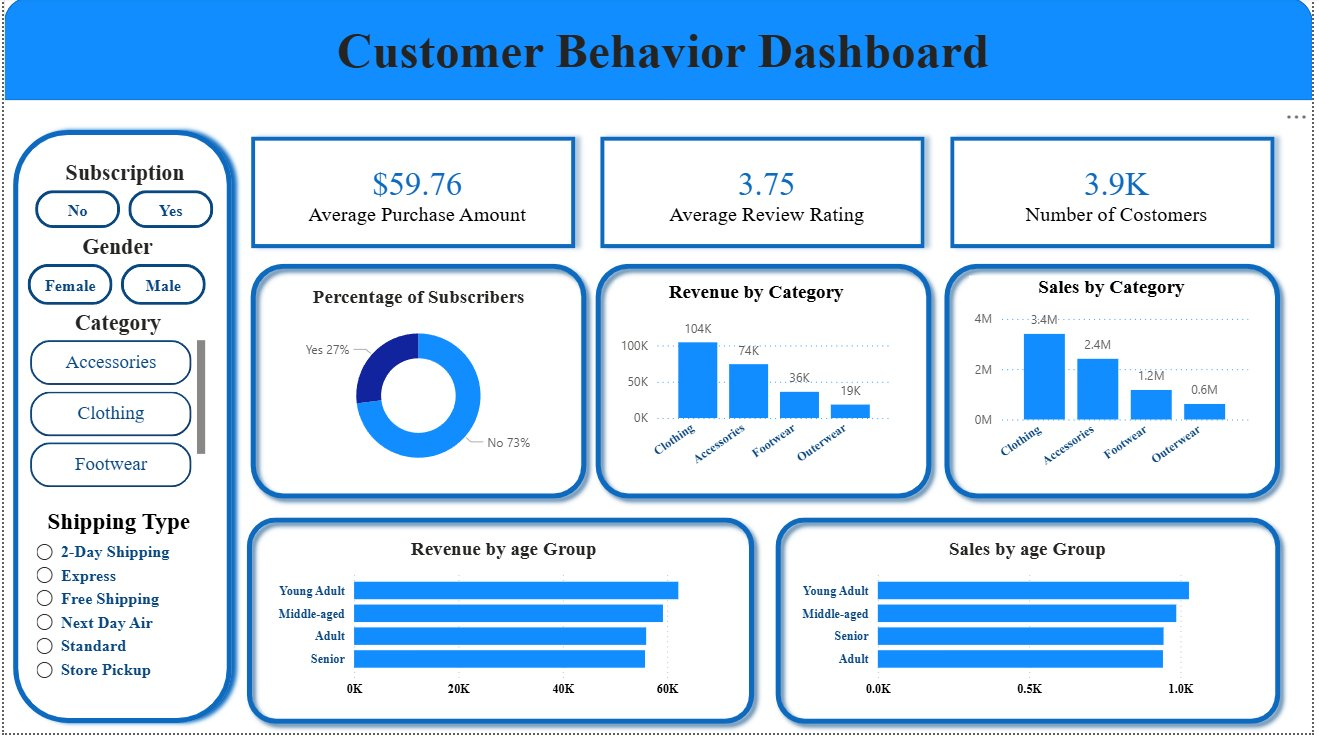

This screenshot's page, from the dashboard's own definition file:
{"tool":"powerbi","page":{"name":"Page 1","canvas":[1280,720],"ordinal":0},"visuals":[{"type":"cardVisual","fields":{"Data":["costomer_behavior customer.average_purchase_amount","costomer_behavior customer.average_review_rating","costomer_behavior customer.number_of_costomers"]},"box":[206.5,101.2,1073.8,179.9],"z":0},{"type":"shape","box":[0,0,1280.3,101.2],"z":1000},{"type":"textbox","box":[261.1,21.3,766,79.9],"z":2000},{"type":"shape","box":[231.8,251.8,346.4,247.8],"z":3000},{"type":"donutChart","title":"Percentage of Subscribers","fields":{"Category":["costomer_behavior customer.subscription_status"],"Y":["CountNonNull(costomer_behavior customer.customer_id)"]},"box":[275.8,282.4,258.5,194.5],"z":4000},{"type":"shape","box":[570.2,251.8,346.4,247.8],"z":5000},{"type":"shape","box":[911.2,251.8,346.4,247.8],"z":6000},{"type":"clusteredColumnChart","title":"Revenue by Category","fields":{"Y":["Sum(costomer_behavior customer.purchase_amount)"],"Category":["costomer_behavior customer.category"]},"box":[598.2,277.1,275.8,194.5],"z":7000},{"type":"clusteredColumnChart","title":"Sales by Category","fields":{"Y":["Sum(costomer_behavior customer.customer_id)"],"Category":["costomer_behavior customer.category"]},"box":[944.5,273.1,278.4,203.8],"z":8000},{"type":"shape","box":[0,121.2,231.8,598.2],"z":9000},{"type":"advancedSlicerVisual","title":"Subscription","fields":{"Values":["costomer_behavior customer.subscription_status"]},"box":[25.3,159.9,185.2,71.9],"z":10000},{"type":"advancedSlicerVisual","title":"Gender","fields":{"Values":["costomer_behavior customer.gender"]},"box":[18.7,231.8,185.2,74.6],"z":11000},{"type":"advancedSlicerVisual","title":"Category","fields":{"Values":["costomer_behavior customer.category"]},"box":[21.3,306.4,181.2,179.9],"z":11001},{"type":"listSlicer","title":"Shipping Type","fields":{"Values":["costomer_behavior customer.shipping_type"]},"box":[25.3,499.6,173.2,178.5],"z":11002},{"type":"clusteredBarChart","title":"Revenue by age Group","fields":{"Y":["Sum(costomer_behavior customer.purchase_amount)"],"Category":["costomer_behavior customer.age_group"]},"box":[261.1,528.9,454.3,162.5],"z":11003},{"type":"shape","box":[746,499.6,511.6,219.8],"z":11004},{"type":"shape","box":[229.1,499.6,514.2,219.8],"z":11005},{"type":"clusteredBarChart","title":"Sales by age Group","fields":{"Y":["CountNonNull(costomer_behavior customer.customer_id)"],"Category":["costomer_behavior customer.age_group"]},"box":[774,528.9,454.3,162.5],"z":11006}]}

Visuals, with their boxes in screenshot pixels (x1, y1, x2, y2), scaled from the page's 1280x720 canvas onto the 1319x739 screenshot:
cardVisual - costomer_behavior customer.average_purchase_amount x costomer_behavior customer.average_review_rating: bbox=[213, 104, 1318, 289]
shape: bbox=[0, 0, 1318, 104]
textbox: bbox=[269, 22, 1058, 104]
shape: bbox=[239, 258, 596, 513]
"Percentage of Subscribers" donutChart: bbox=[284, 290, 551, 489]
shape: bbox=[588, 258, 945, 513]
shape: bbox=[939, 258, 1296, 513]
"Revenue by Category" clusteredColumnChart: bbox=[616, 284, 901, 484]
"Sales by Category" clusteredColumnChart: bbox=[973, 280, 1260, 489]
shape: bbox=[0, 124, 239, 738]
"Subscription" advancedSlicerVisual: bbox=[26, 164, 217, 238]
"Gender" advancedSlicerVisual: bbox=[19, 238, 210, 314]
"Category" advancedSlicerVisual: bbox=[22, 314, 209, 499]
"Shipping Type" listSlicer: bbox=[26, 513, 205, 696]
"Revenue by age Group" clusteredBarChart: bbox=[269, 543, 737, 710]
shape: bbox=[769, 513, 1296, 738]
shape: bbox=[236, 513, 766, 738]
"Sales by age Group" clusteredBarChart: bbox=[798, 543, 1266, 710]
